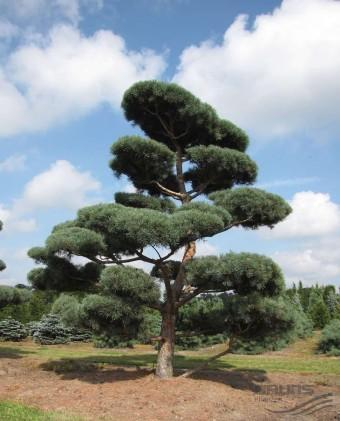tree: (37, 74, 300, 382)
